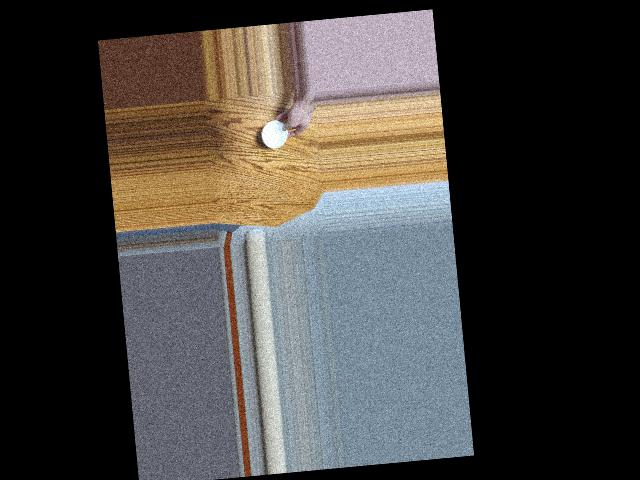cotage: (259, 114, 293, 152)
